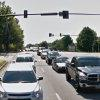Traffic light: (20, 3, 80, 28)
